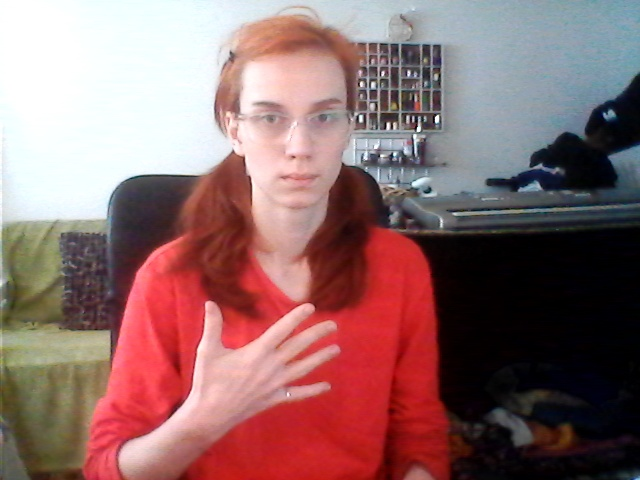pat: (184, 299, 340, 414)
